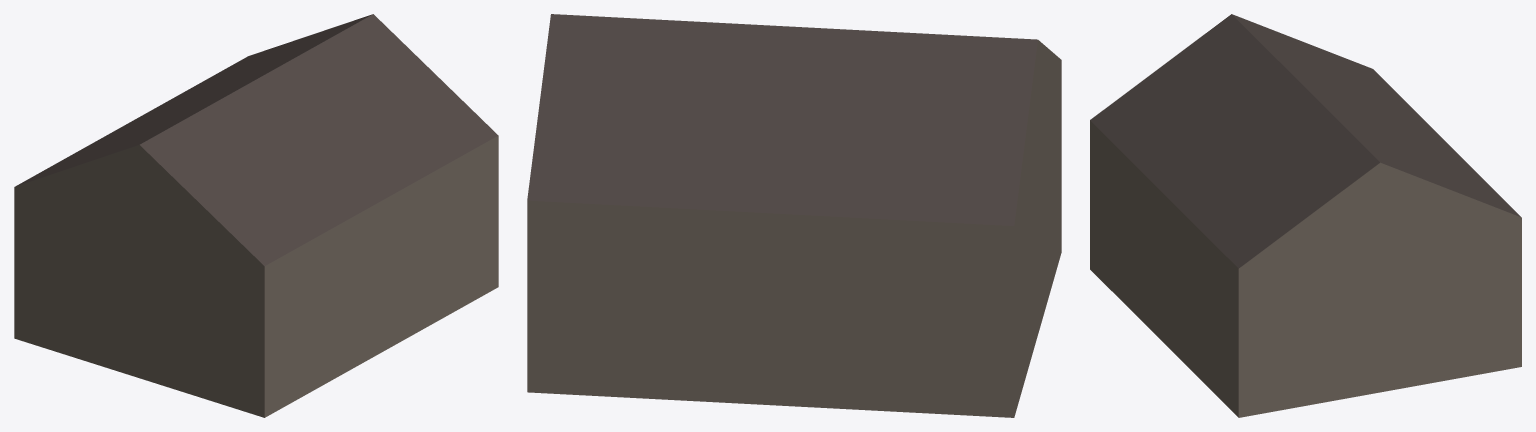
3 views of the same model, side by side, from view 1: azimuth 30°, elevation 25°; view 2: azimuth 150°, elevation 25°; view 3: azimuth 270°, elevation 25° (orthographic). The views are drawn at different scales.
Visible parts, largest first — view 1: HP-w1287259383; view 2: HP-w1287259383; view 3: HP-w1287259383.
Boxes of the visible parts, x1,y1,x2,y2 form: HP-w1287259383: (14,14,498,417); HP-w1287259383: (527,14,1061,417); HP-w1287259383: (1090,14,1521,417).
Size of the model in its own units: 25.82 by 13.86 by 23.6.
